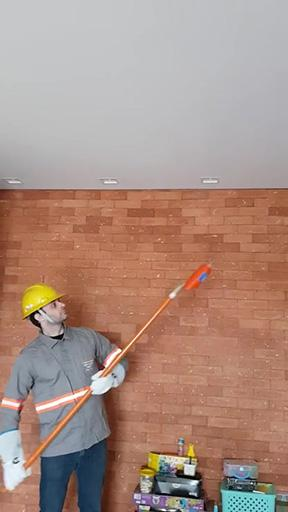Detector_Tensao_Contato: (178, 257, 218, 291)
Vara_Manobra: (2, 285, 181, 490)
